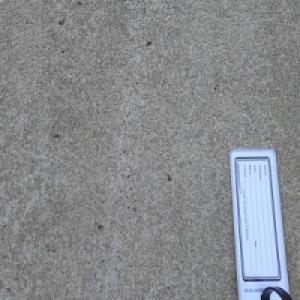LuggageTag: (229, 146, 294, 300)
